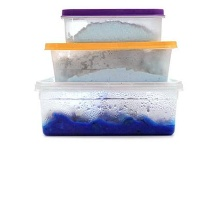plastic_box: (29, 70, 186, 141), (39, 36, 181, 88), (54, 2, 169, 47)
